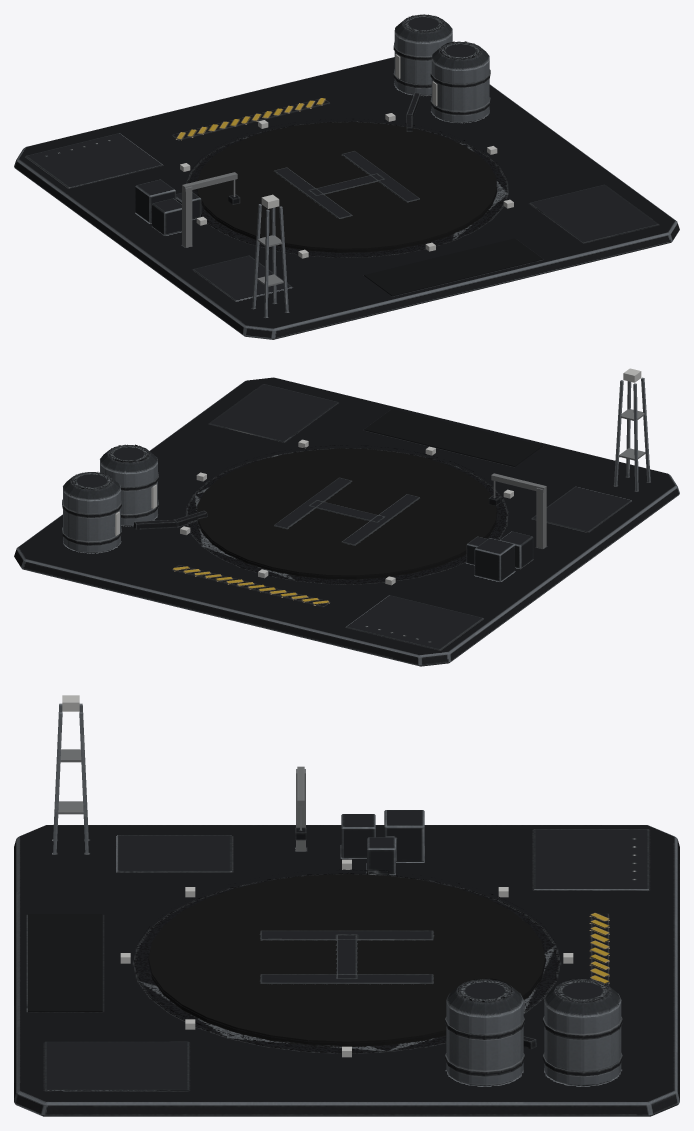
Rendered from chs_airpad.fbx.
The picture shows the model from 3 angles, top to bottom: view 1: azimuth 30°, elevation 25°; view 2: azimuth 150°, elevation 25°; view 3: azimuth 270°, elevation 25°; orthographic projection. The views are drawn at different scales.
Visible parts, largest first — view 1: base_bar, base_glow_running_bar; view 2: base_bar, base_glow_running_bar; view 3: base_bar, base_glow_running_bar.
Boxes of the visible parts, box(x1,y1,x2,y2) form: base_bar: box(14, 14, 679, 339); base_glow_running_bar: box(180, 113, 513, 258); base_bar: box(14, 377, 679, 666); base_glow_running_bar: box(180, 368, 641, 585); base_bar: box(14, 703, 679, 1116); base_glow_running_bar: box(62, 695, 573, 1057).
Size of the model in its own units: 2316 by 818 by 2316.
2 materials, 2 textured.
